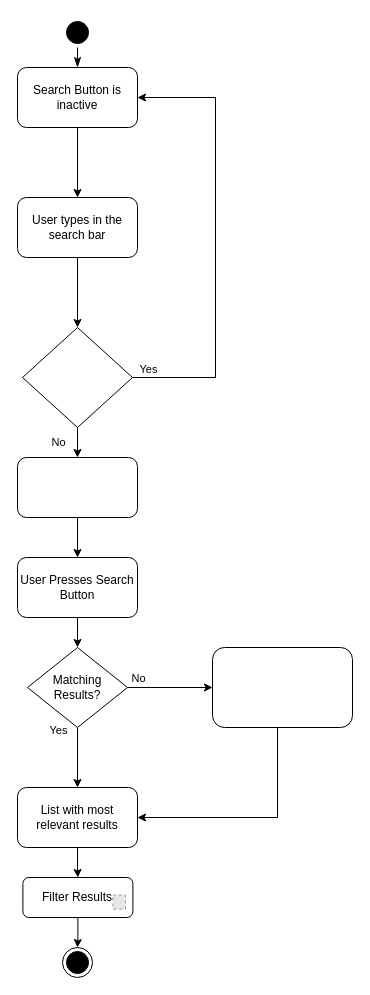
The diagram is 370 pixels wide and 995 high, and some of its shapes have lost their labels. Grey dashed boxes stand in for pictures. The shapes that lost their labels are listed below. From the top down, each one's centre as x and y in pixels, then its label:
point 77,377: Empty Search Query?
point 77,487: Search Button becomes active
point 282,687: Display message: "No results found."
